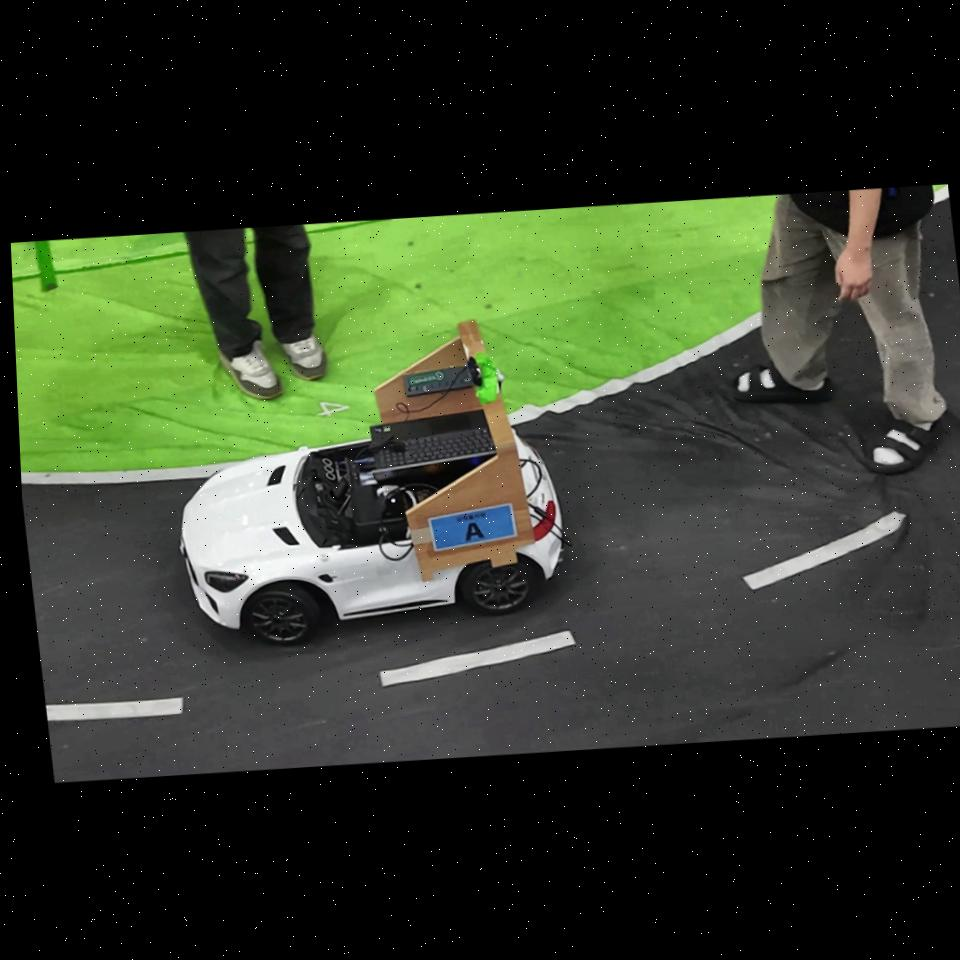broken_line: (742, 511, 907, 590), (380, 630, 576, 687), (46, 697, 184, 721)
